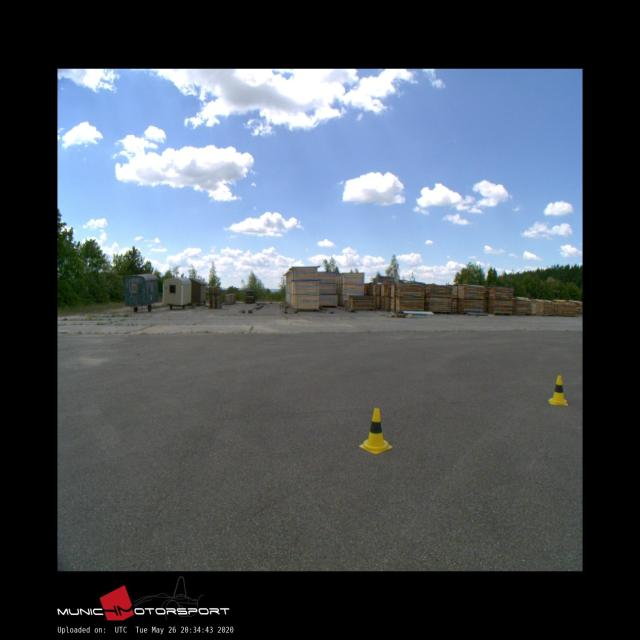yellow_cone: (360, 408, 392, 453), (548, 374, 567, 405)
